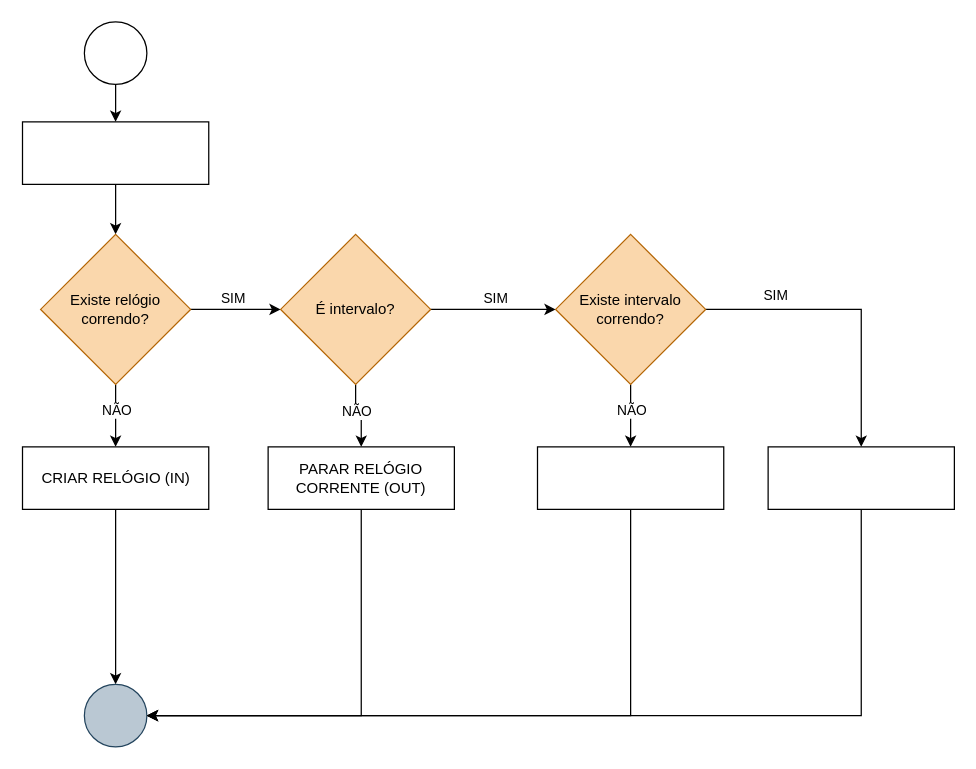
Image size: 976x769. Some labels were removed from this diagram. The box of each missing label's shape, as (x1, y1, x2, y2) in pixels:
CRIAR INTERVALO NO RELÓGIO CORRENTE: (536, 446, 724, 509)
PARAR INTERVALO CORRENTE: (767, 446, 954, 509)
REGISTRAR PONTO: (21, 121, 209, 184)
